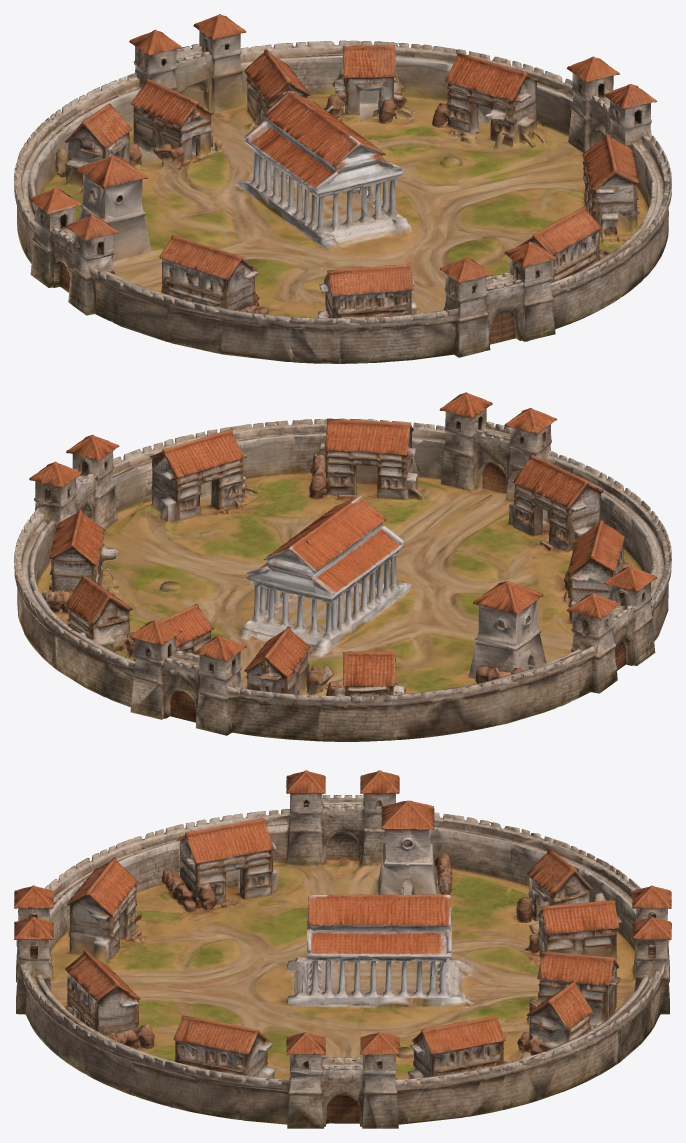
The model's file is Village_Romans_M.glb.
3 renders of one model, top to bottom at view 1: azimuth 30°, elevation 25°; view 2: azimuth 150°, elevation 25°; view 3: azimuth 270°, elevation 25°, orthographic.
Parts seen in each view (by area): view 1: Mesh_0; view 2: Mesh_0; view 3: Mesh_0.
Boxes of the visible parts, bbox=[...] form: Mesh_0: bbox=[14, 14, 671, 363]; Mesh_0: bbox=[14, 392, 671, 741]; Mesh_0: bbox=[14, 770, 671, 1128].
Size of the model in its own units: 1.9 by 0.3082 by 1.9.
Materials: 1 (1 with a texture image).
